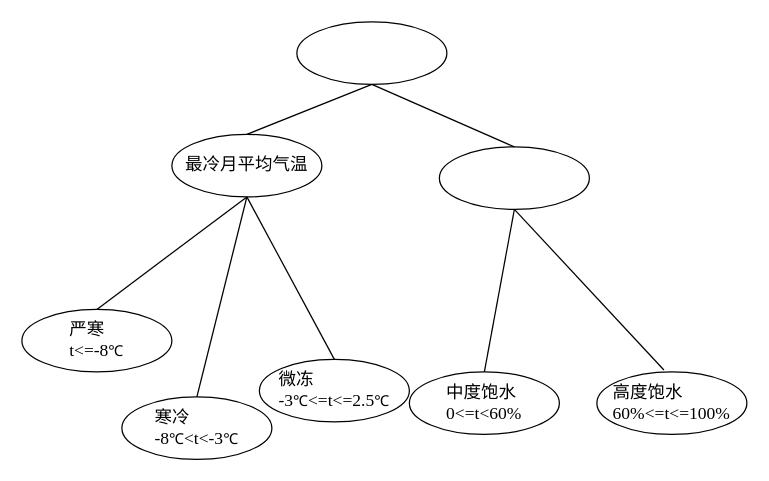
Image size: 769x481. Some labels were removed from this diagram. Each missing label, with the centre of its shape:
Ⅱ 子类: the point at 371,52
混凝土饱水: the point at 513,177
